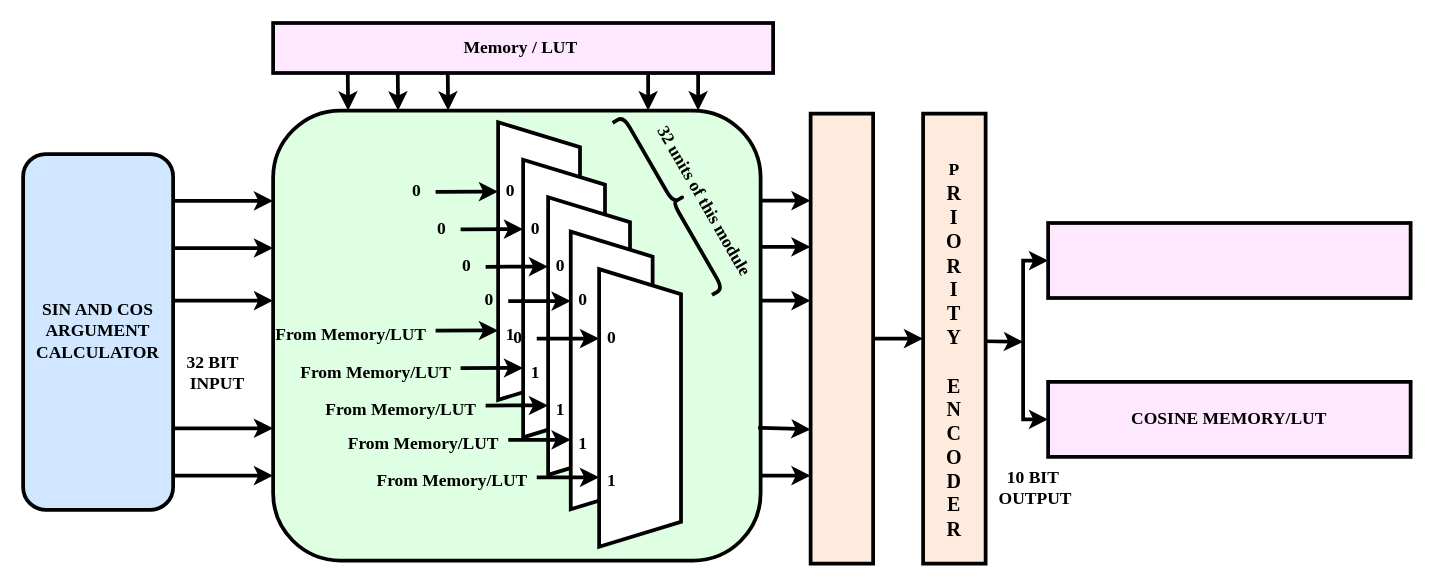
This 1434x588 diagram has some shape labels left out. The shapes that lost their labels are listed below. From the top down, each one's box as (x1, y1, x2, y2) in pixels, then its label:
(1046, 220, 1412, 299): SINE MEMORY/LUT
(808, 111, 874, 565): A D D E R T R E E
